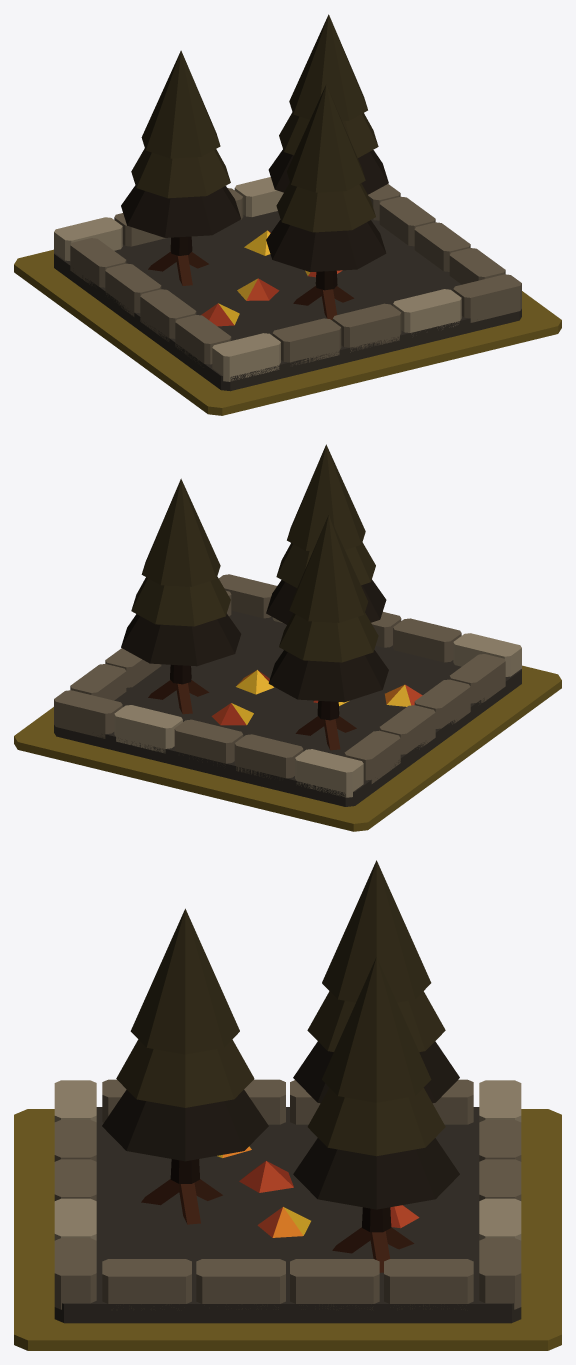
Rendered from whisper-grove_t1.glb.
The picture shows the model from 3 angles, top to bottom: view 1: azimuth 30°, elevation 25°; view 2: azimuth 150°, elevation 25°; view 3: azimuth 270°, elevation 25°; orthographic projection. The views are drawn at different scales.
Parts seen in each view (by area): view 1: MMR | whisper-grove | T01 Architecture.001, MMR | whisper-grove | Tier 01 Ground.001, MMR | whisper-grove | T01 Autumn Dressing.001; view 2: MMR | whisper-grove | T01 Architecture.001, MMR | whisper-grove | Tier 01 Ground.001, MMR | whisper-grove | T01 Autumn Dressing.001; view 3: MMR | whisper-grove | T01 Architecture.001, MMR | whisper-grove | Tier 01 Ground.001, MMR | whisper-grove | T01 Autumn Dressing.001.
Boxes of the visible parts, bbox=[...] form: MMR | whisper-grove | T01 Architecture.001: bbox=[54, 14, 521, 391]; MMR | whisper-grove | Tier 01 Ground.001: bbox=[14, 249, 561, 415]; MMR | whisper-grove | T01 Autumn Dressing.001: bbox=[201, 230, 342, 326]; MMR | whisper-grove | T01 Architecture.001: bbox=[54, 444, 521, 806]; MMR | whisper-grove | Tier 01 Ground.001: bbox=[14, 665, 561, 831]; MMR | whisper-grove | T01 Autumn Dressing.001: bbox=[211, 670, 422, 725]; MMR | whisper-grove | T01 Architecture.001: bbox=[54, 860, 521, 1323]; MMR | whisper-grove | Tier 01 Ground.001: bbox=[14, 1109, 561, 1350]; MMR | whisper-grove | T01 Autumn Dressing.001: bbox=[217, 1146, 419, 1237].
Size of the model in its own units: 2.35 by 1.55 by 2.35.
Materials: 1 (1 with a texture image).
